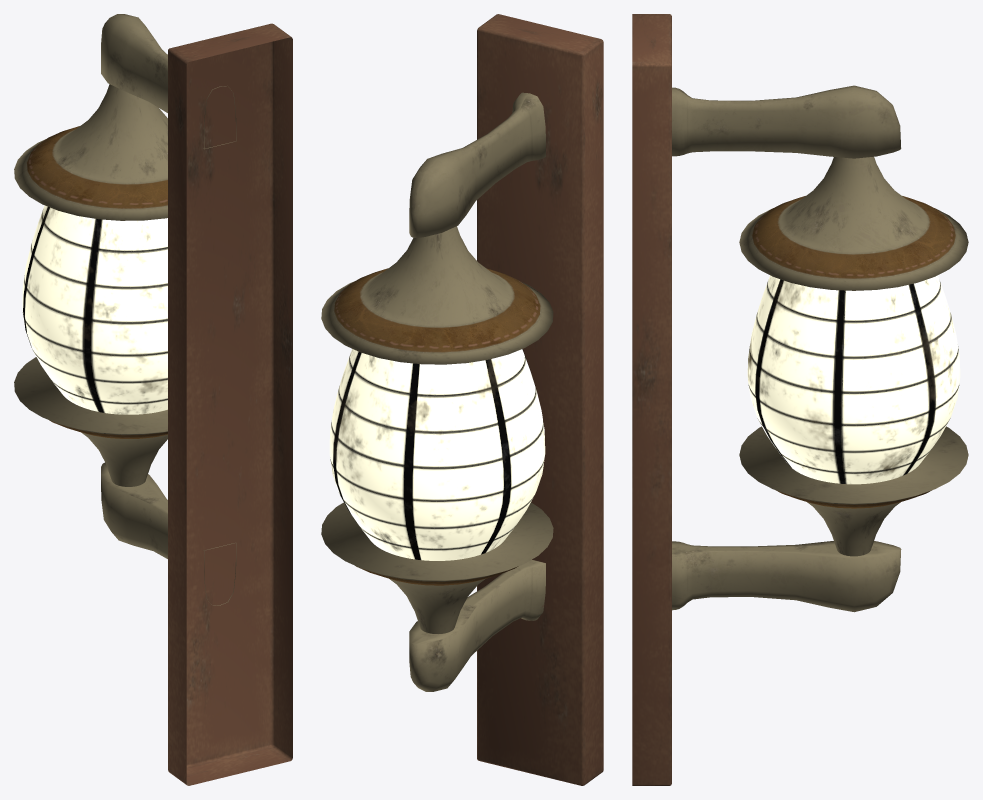
3 views of the same model, side by side, from view 1: azimuth 30°, elevation 25°; view 2: azimuth 150°, elevation 25°; view 3: azimuth 270°, elevation 25° (orthographic).
Visible parts, largest first — view 1: Lantern; view 2: Lantern; view 3: Lantern.
Part boxes in pixels (left/top/right/bottom): Lantern: left=14, top=14, right=292, bottom=785; Lantern: left=321, top=14, right=603, bottom=785; Lantern: left=632, top=14, right=968, bottom=785.
Bounding box in the file's own units: 13.92 × 48.38 × 20.41.
1 material, 1 textured.
